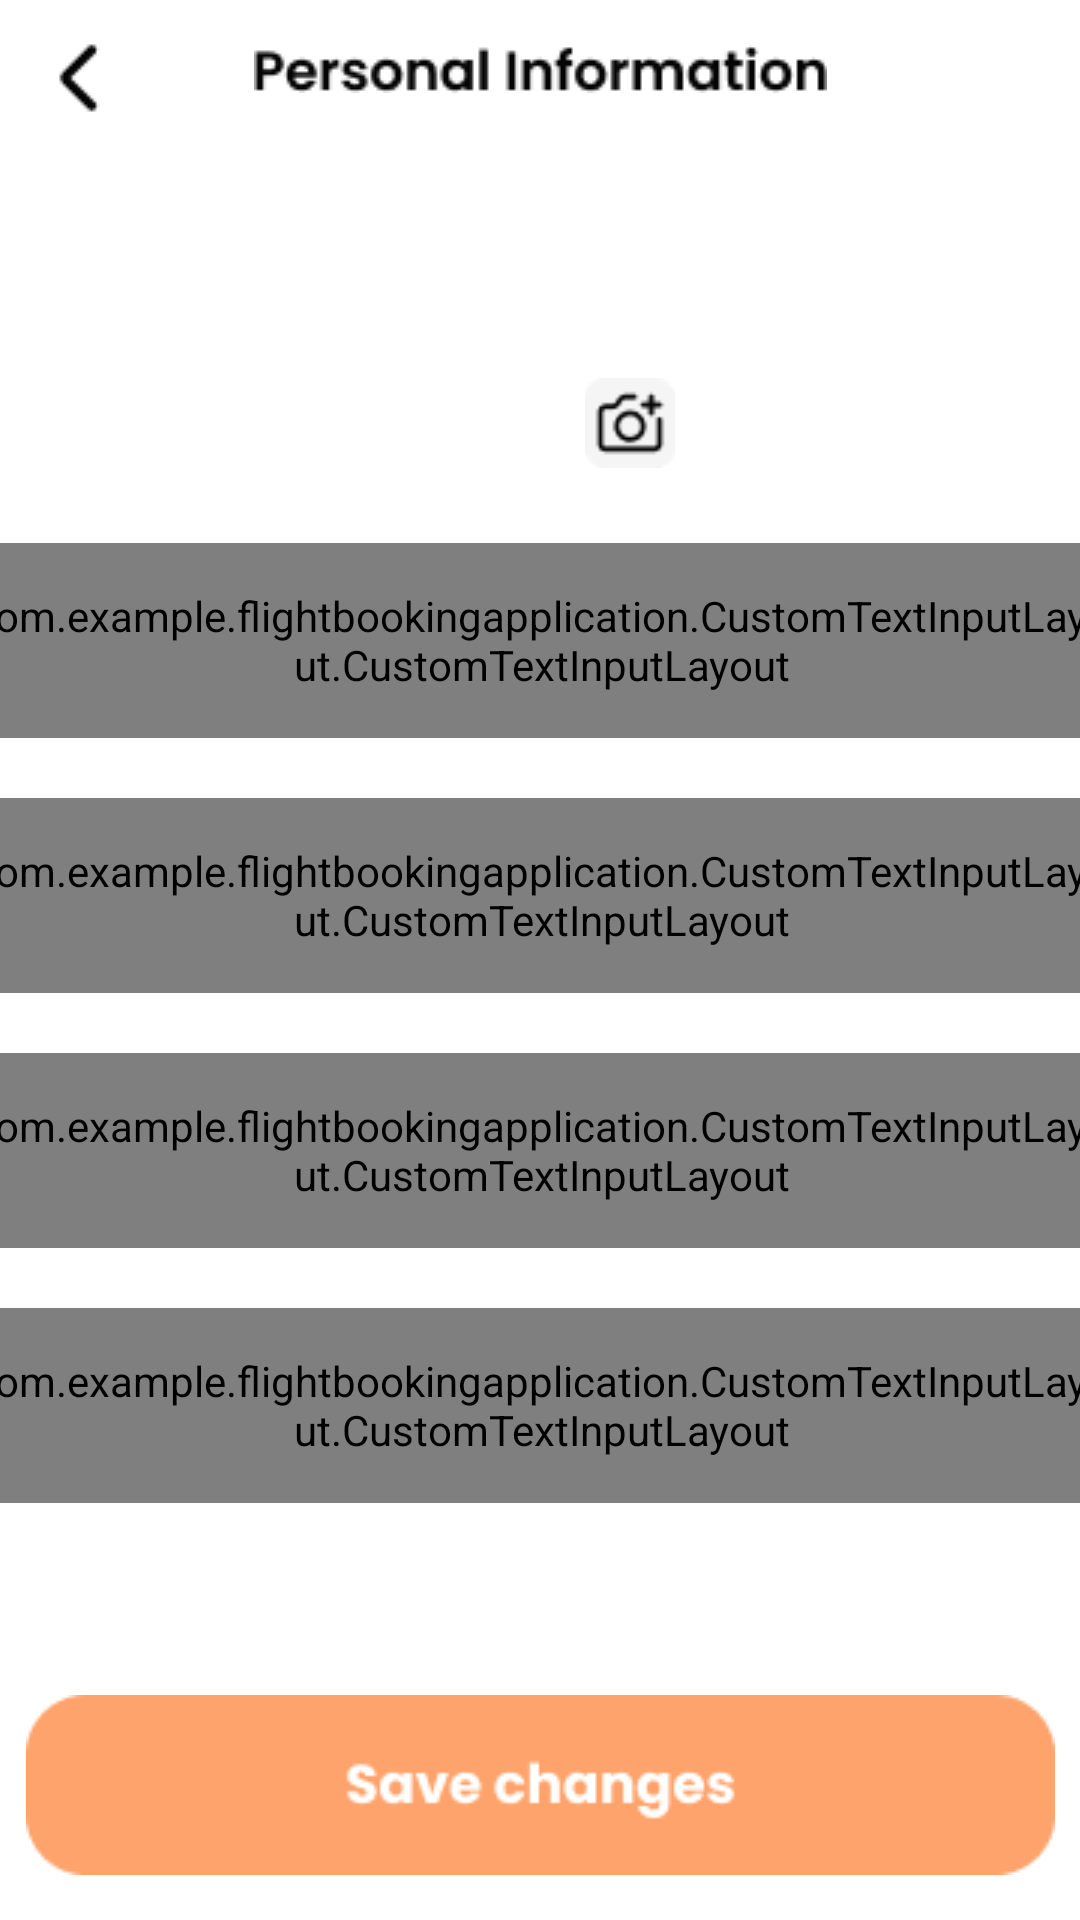

Screen size 1080px x 1920px. Icon name, then its center in pixels as (x=x, y=y):
back: (x=78, y=78)
